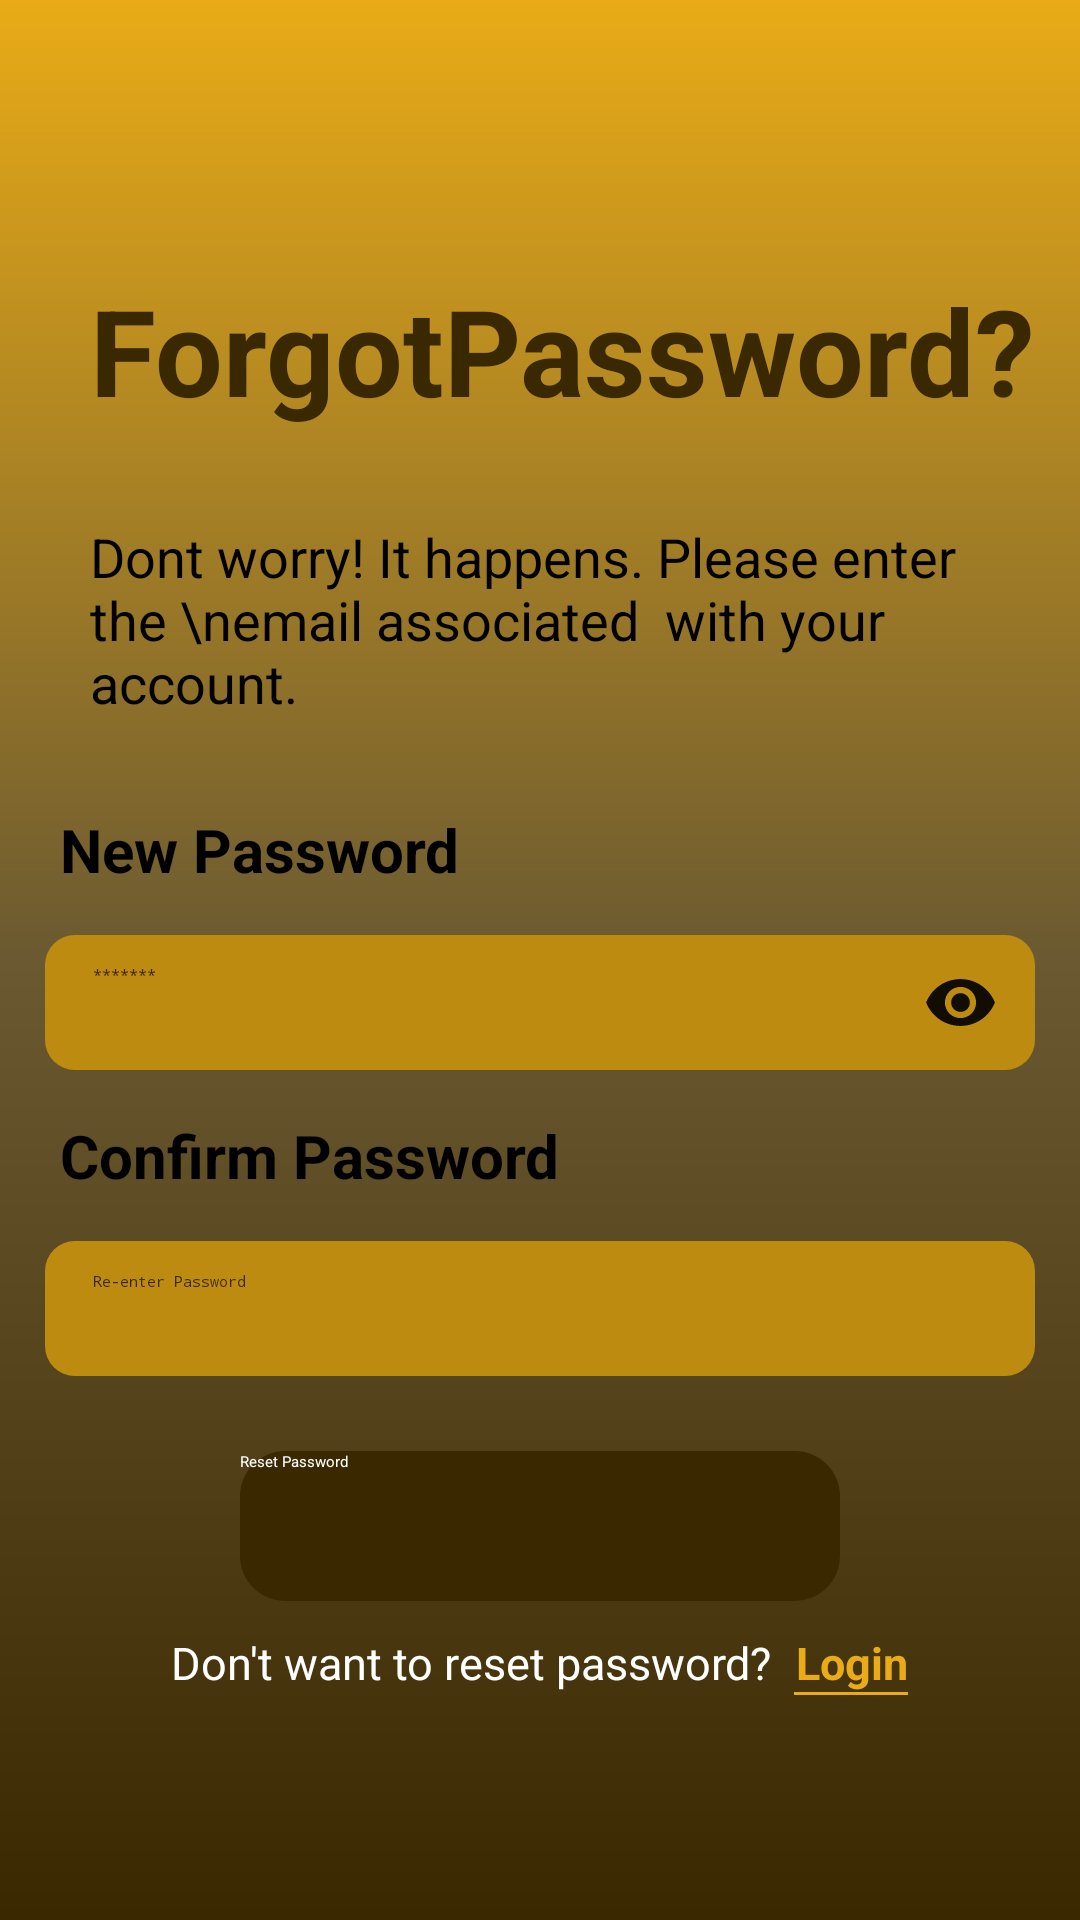

Icons on this 1080 x 1920 Android screen, each with its box as (x1, y1, x2, y2):
remove eye: (926, 979, 995, 1026)
